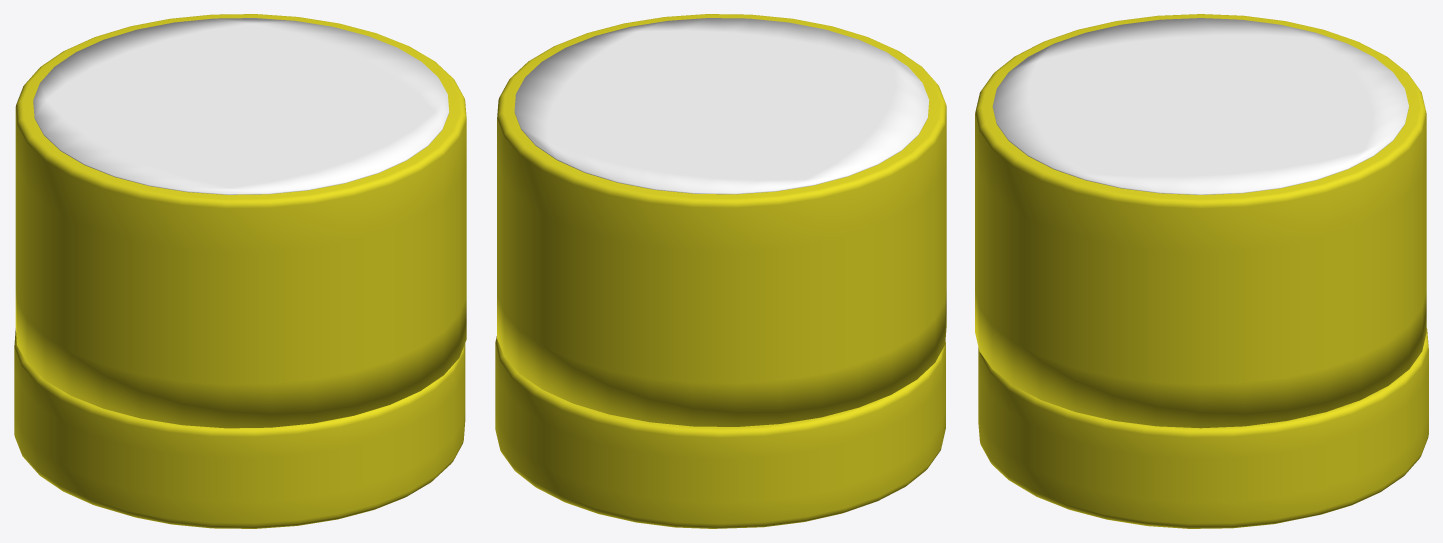
3 renders of one model, left to right at view 1: azimuth 30°, elevation 25°; view 2: azimuth 150°, elevation 25°; view 3: azimuth 270°, elevation 25°, orthographic.
Parts seen in each view (by area): view 1: LID, Cylinder.026, BOTTOM; view 2: LID, Cylinder.026, BOTTOM; view 3: LID, Cylinder.026, BOTTOM.
Part boxes in pixels (x1=…): LID: x1=15, y1=14, x2=466, y2=428; Cylinder.026: x1=33, y1=18, x2=449, y2=194; BOTTOM: x1=14, y1=328, x2=465, y2=528; LID: x1=497, y1=14, x2=946, y2=426; Cylinder.026: x1=514, y1=18, x2=929, y2=194; BOTTOM: x1=495, y1=336, x2=945, y2=528; LID: x1=975, y1=14, x2=1426, y2=428; Cylinder.026: x1=992, y1=18, x2=1408, y2=194; BOTTOM: x1=978, y1=328, x2=1428, y2=528.
Bounding box in the file's own units: 0.6474 × 0.5242 × 0.6506.
